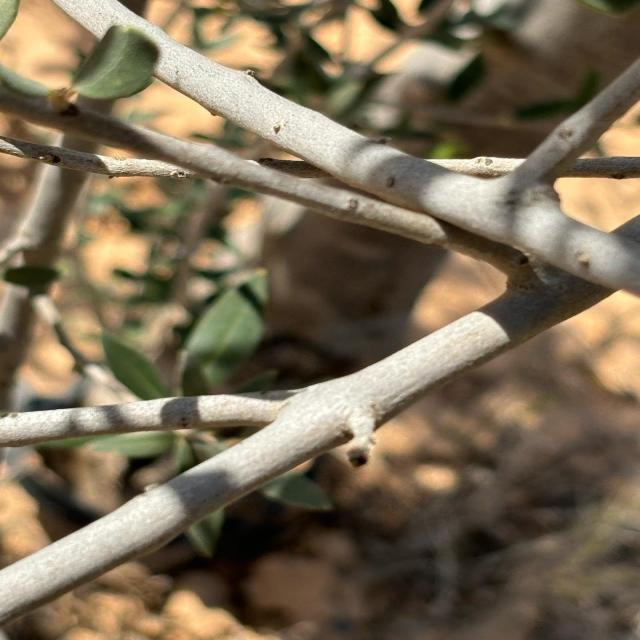Healthy: (0, 308, 532, 624), (153, 39, 639, 299)
